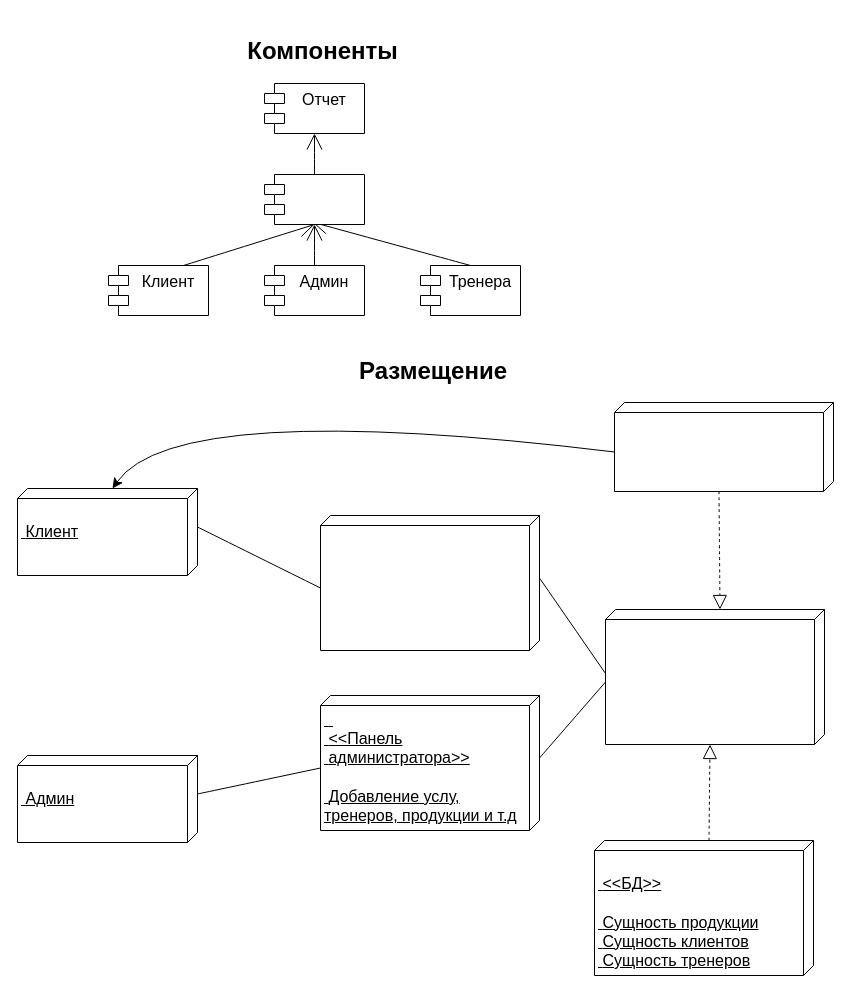
Some shapes in this 851 by 993 pixel diagram are drawn without their labels. The shapes that lost their labels are listed below. From the top down, each one's box as (x1, y1, x2, y2) in pixels, then its label:
(264, 174, 364, 224): Заказ
(614, 402, 834, 492): <<SMTP-Сервер отправка на e-mail>>
(320, 514, 540, 650): <<Приложение>> Просмотреть услуг, тренеров, продукции
(604, 608, 824, 744): <<Контекст БД>> Сущность продукции Сущность клиентов Сущность тренеров
